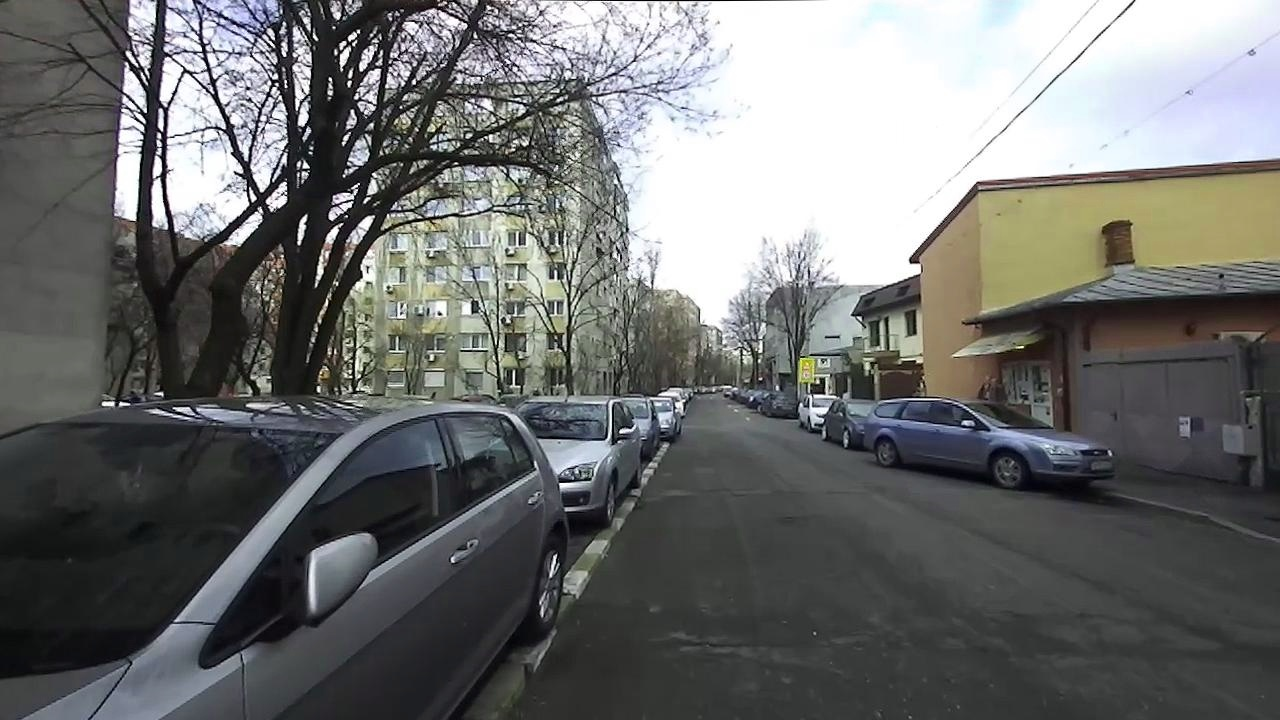pothole: (662, 628, 791, 664), (776, 509, 800, 525)
